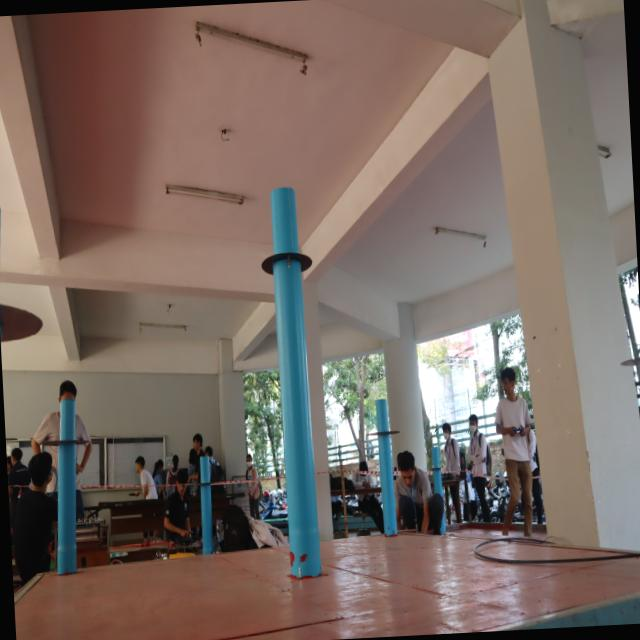pole: (252, 181, 325, 332), (36, 389, 94, 496), (364, 392, 403, 471), (190, 455, 218, 505), (426, 443, 446, 487)
